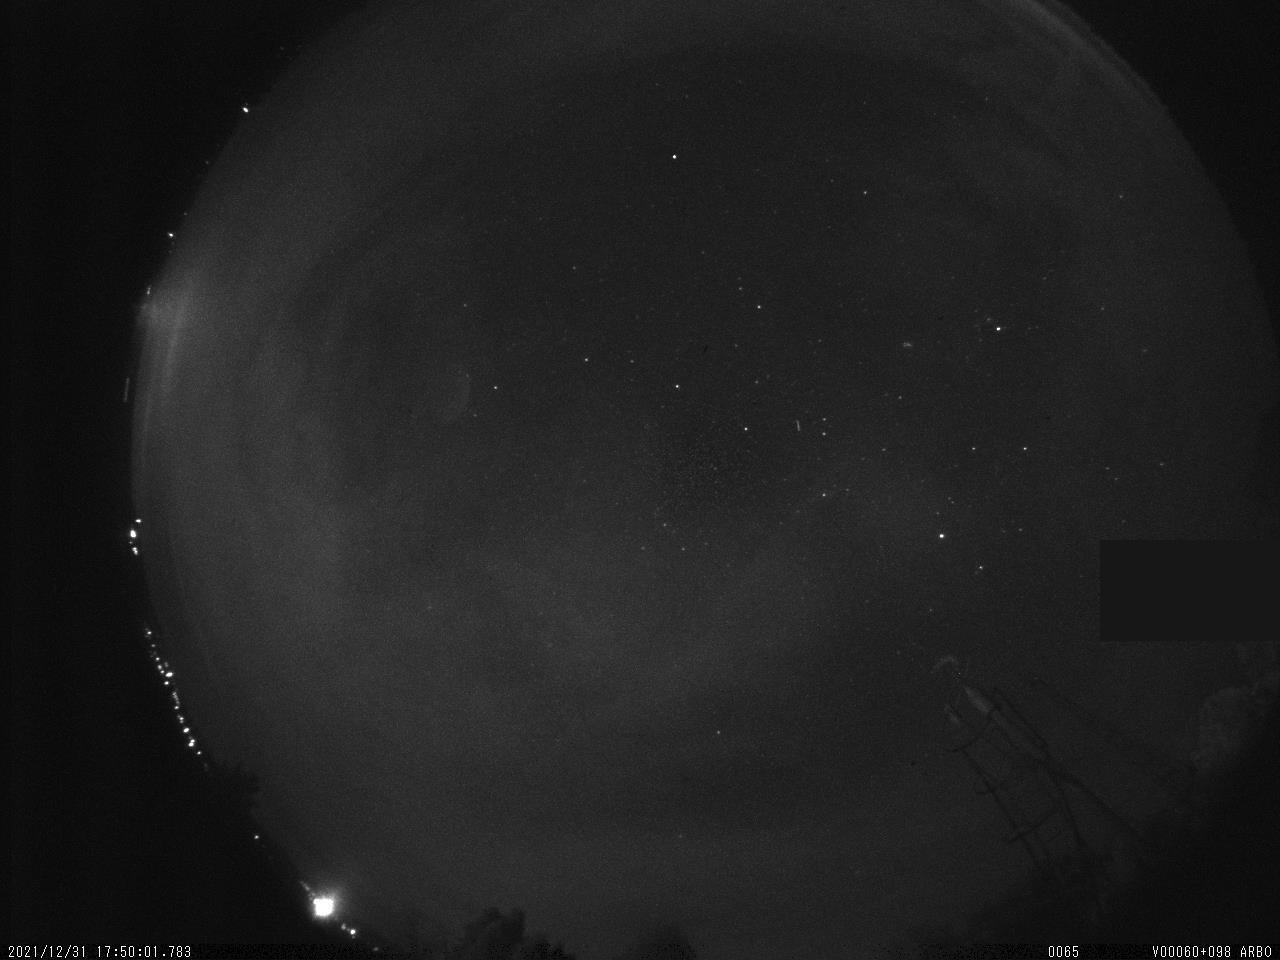meteor: (782, 407, 811, 435)
